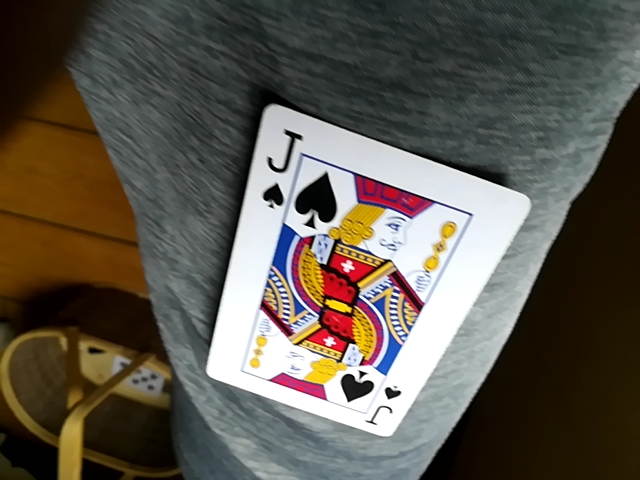ht j: (204, 100, 538, 443)
